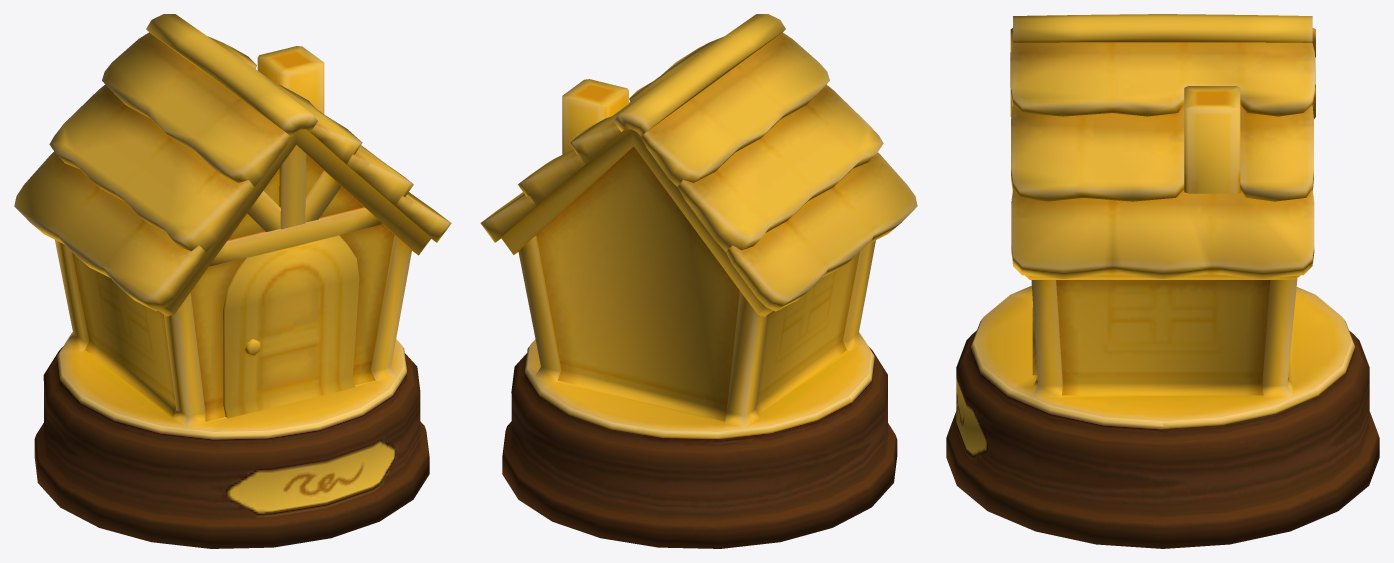
The model's file is FtrTrophyHhaGold.glb.
3 views of the same model, side by side, from view 1: azimuth 30°, elevation 25°; view 2: azimuth 150°, elevation 25°; view 3: azimuth 270°, elevation 25° (orthographic). The views are drawn at different scales.
Parts seen in each view (by area): view 1: Chimney_low__mBody; view 2: Chimney_low__mBody; view 3: Chimney_low__mBody.
Boxes of the visible parts, x1,y1,x2,y2 form: Chimney_low__mBody: (14, 14, 451, 548); Chimney_low__mBody: (480, 14, 917, 548); Chimney_low__mBody: (946, 14, 1379, 548).
Bounding box in the file's own units: 6.18 × 6.92 × 6.18.
1 material, 1 textured.
